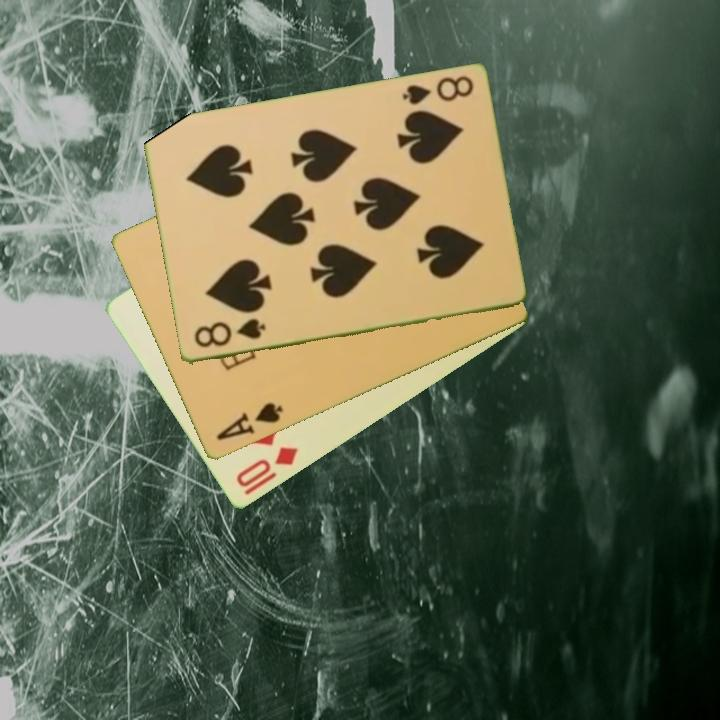10d: (232, 443, 302, 499)
8s: (398, 72, 476, 109), (190, 315, 268, 351)
As: (212, 399, 286, 444)
